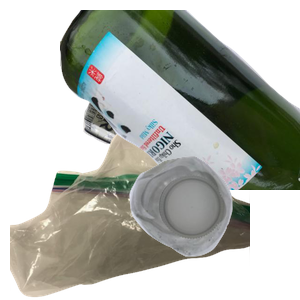glass: (60, 10, 300, 190)
metal: (81, 41, 234, 178)
plastic: (127, 154, 300, 300)
trash: (10, 134, 250, 300)
